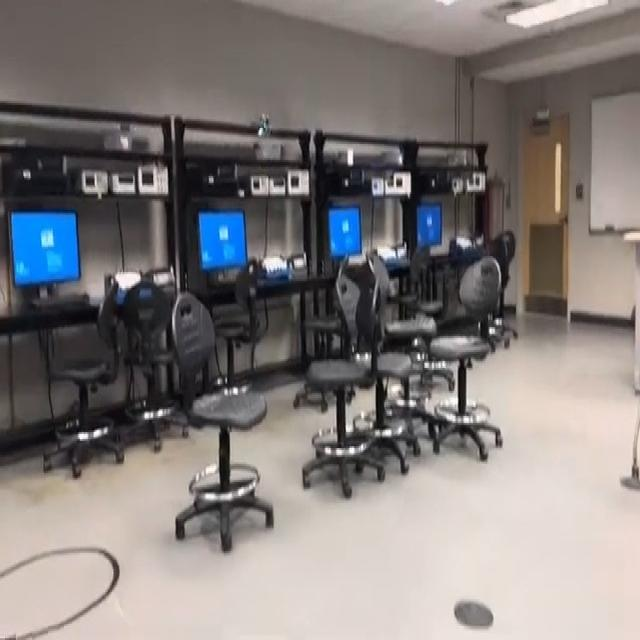drone: (242, 92, 282, 145)
